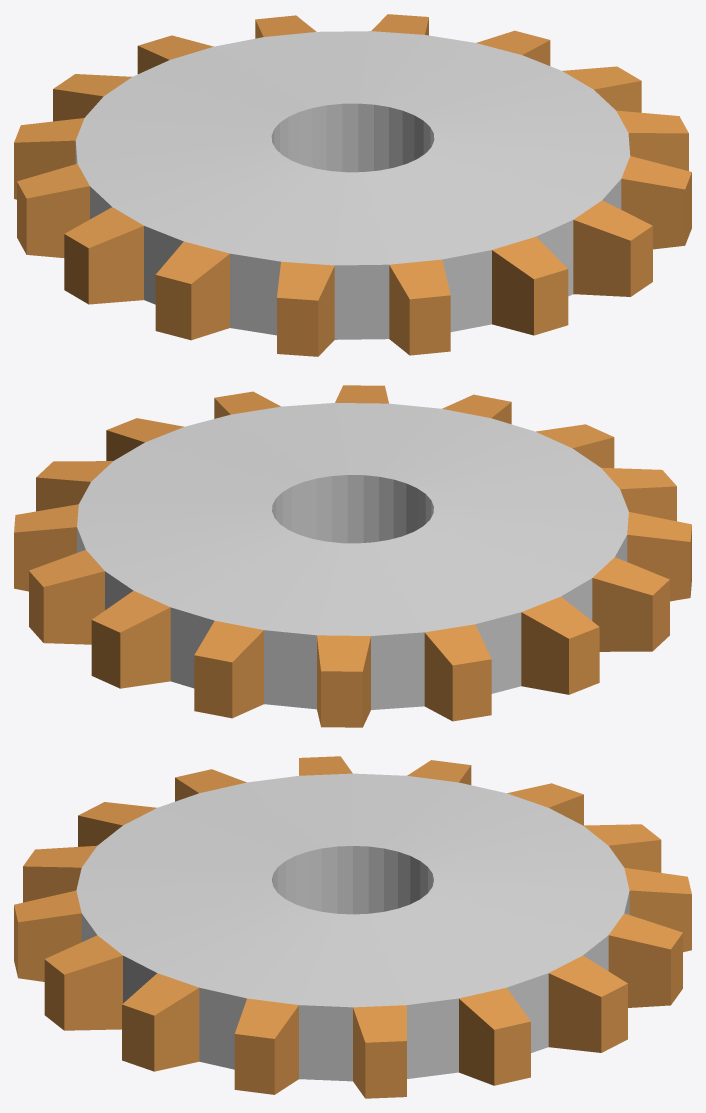
Rendered from Machine_Cog.fbx.
The picture shows the model from 3 angles, top to bottom: view 1: azimuth 30°, elevation 25°; view 2: azimuth 150°, elevation 25°; view 3: azimuth 270°, elevation 25°; orthographic projection.
Parts seen in each view (by area): view 1: Cog; view 2: Cog; view 3: Cog.
Part boxes in pixels (x1,y1,x2,y2): Cog: (14,14,691,356); Cog: (14,385,691,727); Cog: (14,756,691,1098).
Size of the model in its own units: 75.02 by 11.56 by 75.02.
